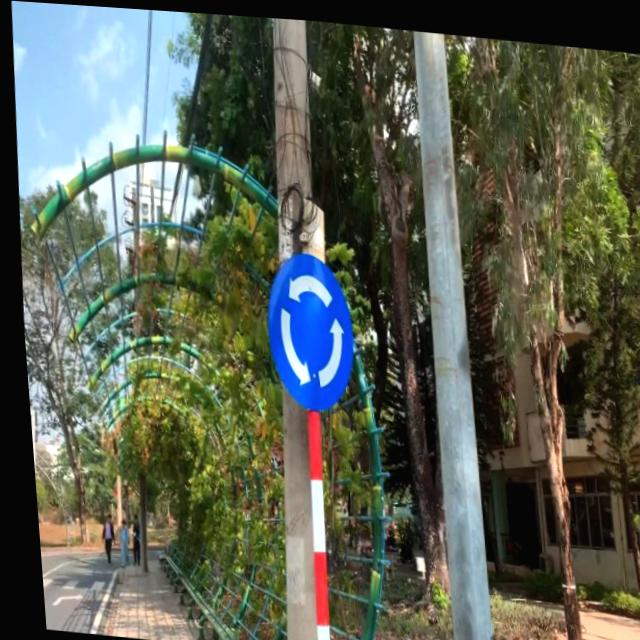Noi giao nhau chay theo vong xuyen: (255, 245, 355, 412)
